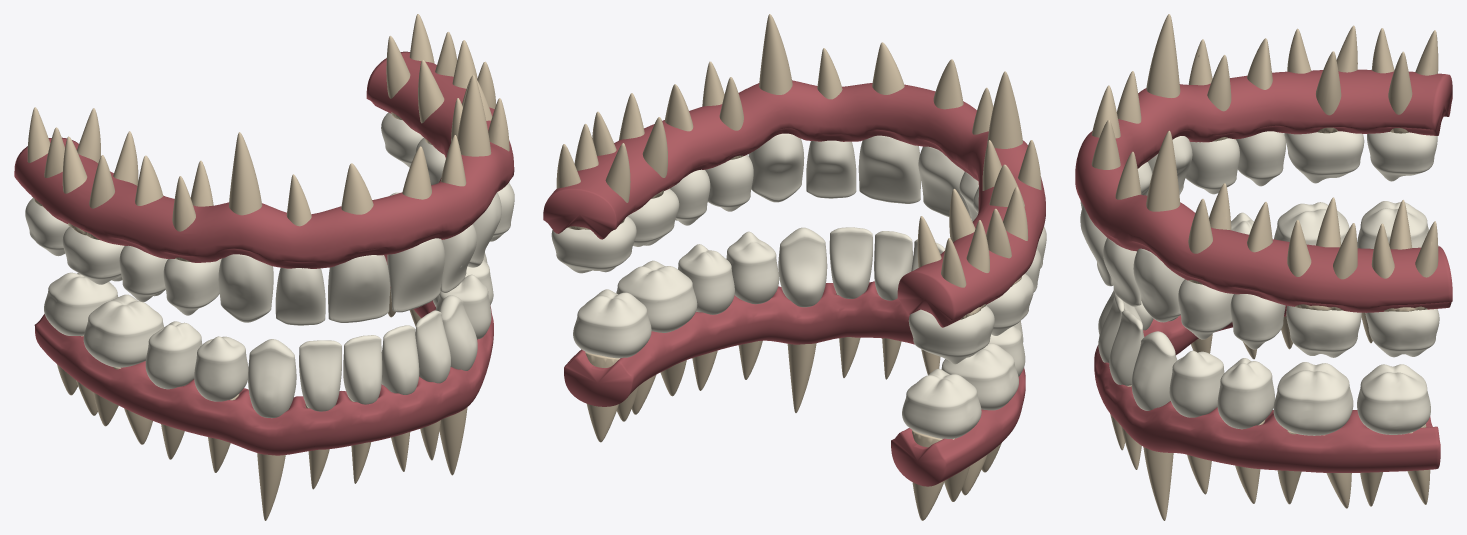
Rendered from forma-teaching-v1.glb.
3 renders of one model, left to right at view 1: azimuth 30°, elevation 25°; view 2: azimuth 150°, elevation 25°; view 3: azimuth 270°, elevation 25°, orthographic. The views are drawn at different scales.
Parts seen in each view (by area): view 1: gum_upper, gum_lower, crown_46, crown_11, crown_21, crown_43, crown_13, crown_47, crown_45, crown_44, root_16, crown_42 (+31 smaller); view 2: gum_upper, gum_lower, crown_47, crown_37, crown_21, crown_36, crown_33, crown_17, crown_27, crown_23, crown_46, crown_34 (+30 smaller); view 3: gum_upper, gum_lower, crown_36, crown_37, crown_35, crown_16, crown_26, crown_34, crown_27, root_26, crown_17, crown_33 (+30 smaller).
Part boxes in pixels (x1,y1,x2,y2): gum_upper: (14,51,514,268); gum_lower: (34,254,493,455); crown_46: (83,294,163,367); crown_11: (328,255,389,322); crown_21: (387,238,444,312); crown_43: (248,339,296,418); crown_13: (218,254,273,322); crown_47: (44,272,117,335); crown_45: (145,321,202,389); crown_44: (194,336,248,401); root_16: (62,131,138,239); crown_42: (299,340,341,411); gum_upper: (543,80,1045,327); gum_lower: (564,281,1025,486); crown_47: (902,368,981,438); crown_37: (573,289,651,358); crown_21: (858,135,920,203); crown_36: (616,260,697,332); crown_33: (778,227,827,307); crown_17: (908,305,994,364); crown_27: (551,216,636,273); crown_23: (748,133,804,202); crown_46: (941,343,1018,410); crown_34: (726,231,779,304); gum_upper: (1075,69,1452,312); gum_lower: (1094,305,1440,472); crown_36: (1273,362,1353,435); crown_37: (1357,364,1430,434); crown_35: (1217,358,1274,429); crown_16: (1284,131,1364,183); crown_26: (1286,305,1361,357); crown_34: (1169,350,1224,417); crown_27: (1365,309,1439,357); root_26: (1287,197,1357,310); crown_17: (1367,132,1437,181); crown_33: (1131,331,1177,410).
Bounding box in the file's own units: 64.27 × 56.56 × 48.17.
